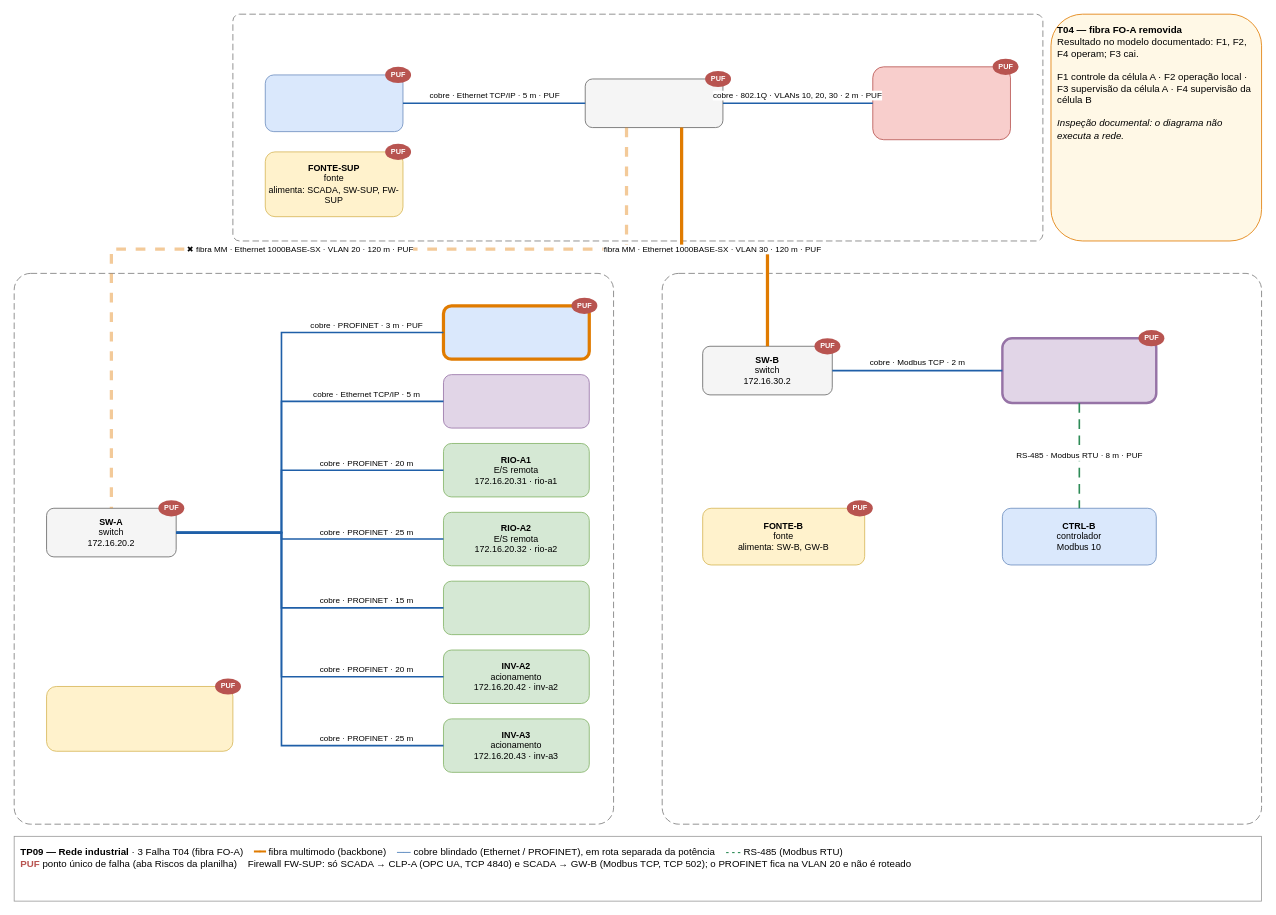
The diagram is 1276 pixels wide and 915 high, and some of its shapes have lost their labels. Each missing label, with the box of its shape:
CLP-A controlador 172.16.20.10 · clp-a: (441, 304, 590, 360)
Célula A — campo, EMI alta perto dos motores — VLAN 20 — 172.16.20.0/24: (13, 273, 614, 824)
Célula B — campo, controlador legado — VLAN 30 — 172.16.30.0/24: (661, 273, 1262, 824)
FONTE-A fonte alimenta: SW-A, CLP-A, HMI-A, RIO-A1, RIO-A2: (46, 686, 233, 751)
FW-SUP firewall VLAN 10: 172.16.10.1 VLAN 20: 172.16.20.1 VLAN 30: 172.16.30.1: (872, 66, 1010, 140)
GW-B GATEWAY Modbus TCP/RTU 172.16.30.10 mestre RTU: (1001, 337, 1157, 404)
HMI-A interface 172.16.20.20: (443, 374, 589, 428)
INV-A1 acionamento 172.16.20.41 · inv-a1: (443, 580, 589, 635)
SCADA servidor 172.16.10.20: (264, 74, 403, 132)
Supervisão — sala de controle — VLAN 10 — 172.16.10.0/24: (232, 13, 1043, 241)
SW-SUP switch 172.16.10.2: (584, 78, 723, 128)
